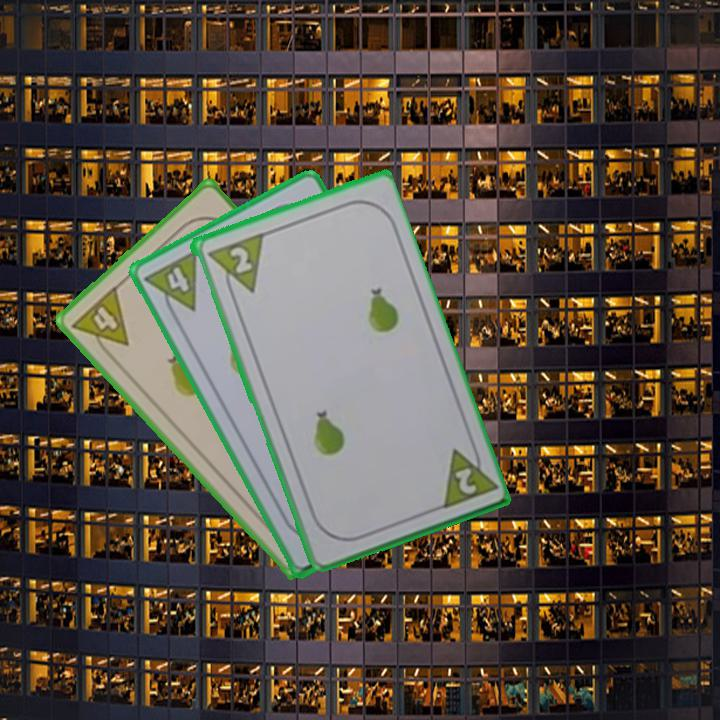2p: (225, 242, 255, 276), (450, 463, 479, 497)
4p: (67, 282, 132, 363), (141, 246, 200, 323)
